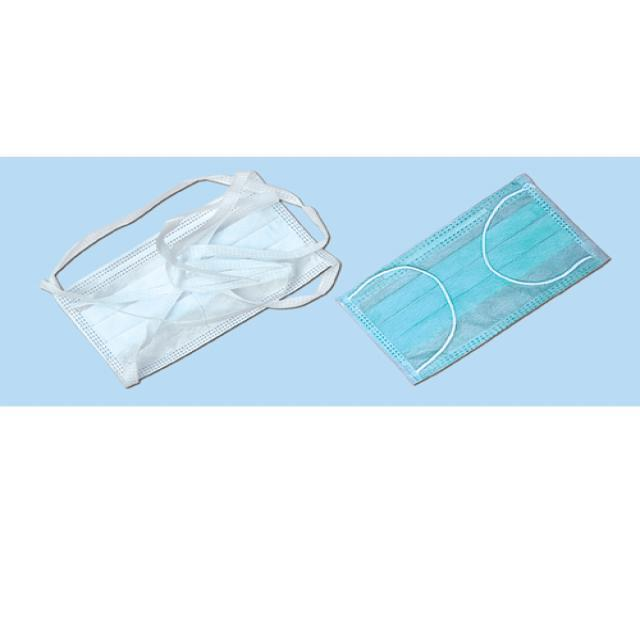face mask: (340, 174, 612, 386), (52, 179, 333, 384)
